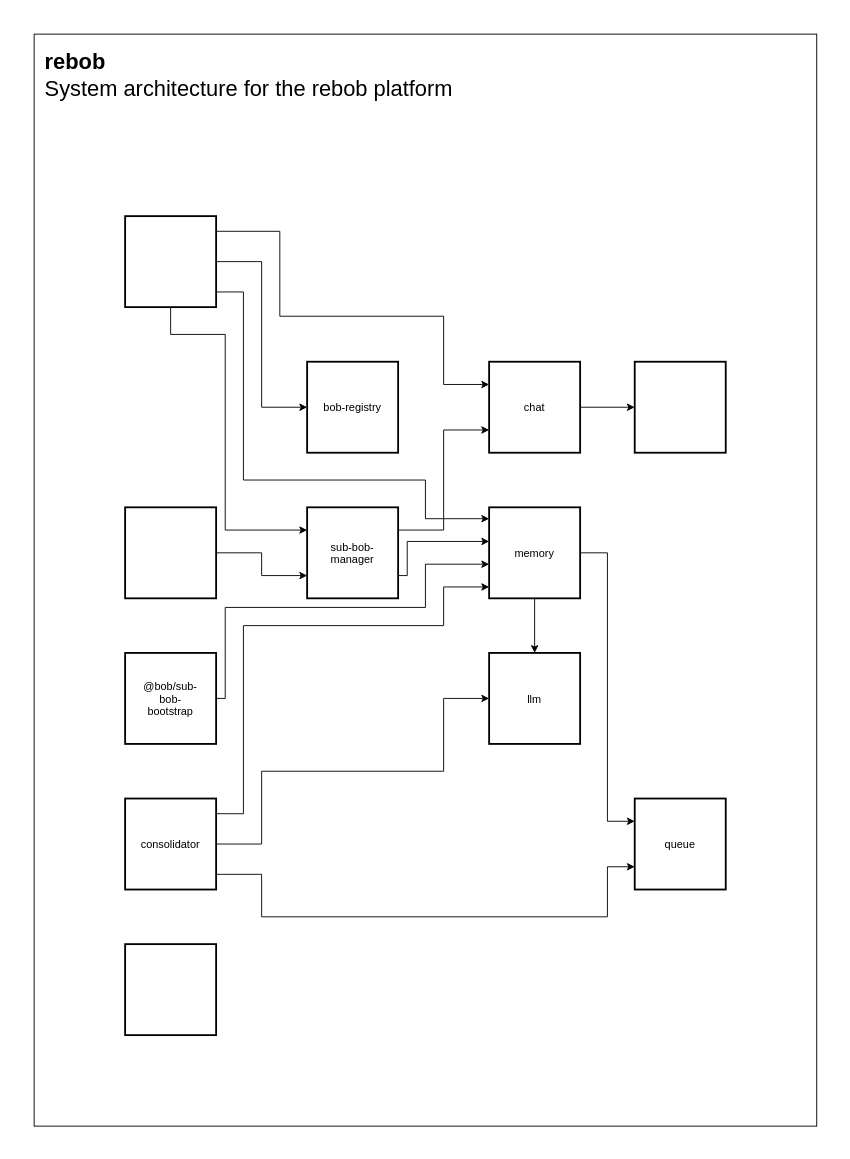
Image size: 850x1159. Some labels were removed from this diagram. The centre of each missing label's shape, as x and y in pixels:
"@bob/ frontend" goes at (x=170, y=261).
"dispatcher" goes at (x=170, y=552).
"event- storage" goes at (x=679, y=406).
"sub-bob" goes at (x=170, y=989).
